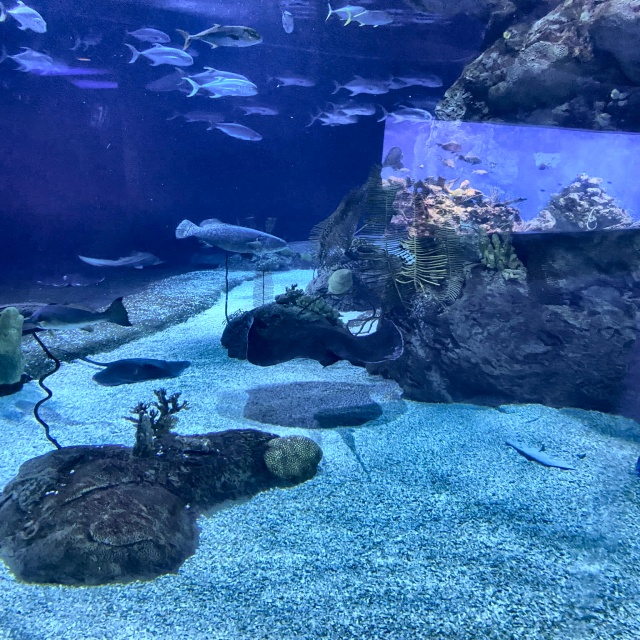fish: (176, 218, 289, 254), (29, 297, 131, 334), (176, 24, 262, 53), (0, 45, 57, 76), (124, 43, 193, 68), (181, 77, 258, 99), (78, 251, 165, 269), (0, 2, 48, 34), (205, 119, 262, 142), (377, 103, 432, 125), (174, 68, 249, 84), (331, 76, 388, 97), (390, 68, 444, 89), (344, 8, 393, 28), (265, 70, 316, 89), (122, 27, 172, 45), (326, 100, 374, 118), (314, 106, 358, 125), (326, 3, 370, 22), (235, 102, 279, 117), (303, 112, 344, 128), (281, 9, 295, 35)
stingray: (241, 314, 404, 366), (90, 358, 190, 387)
